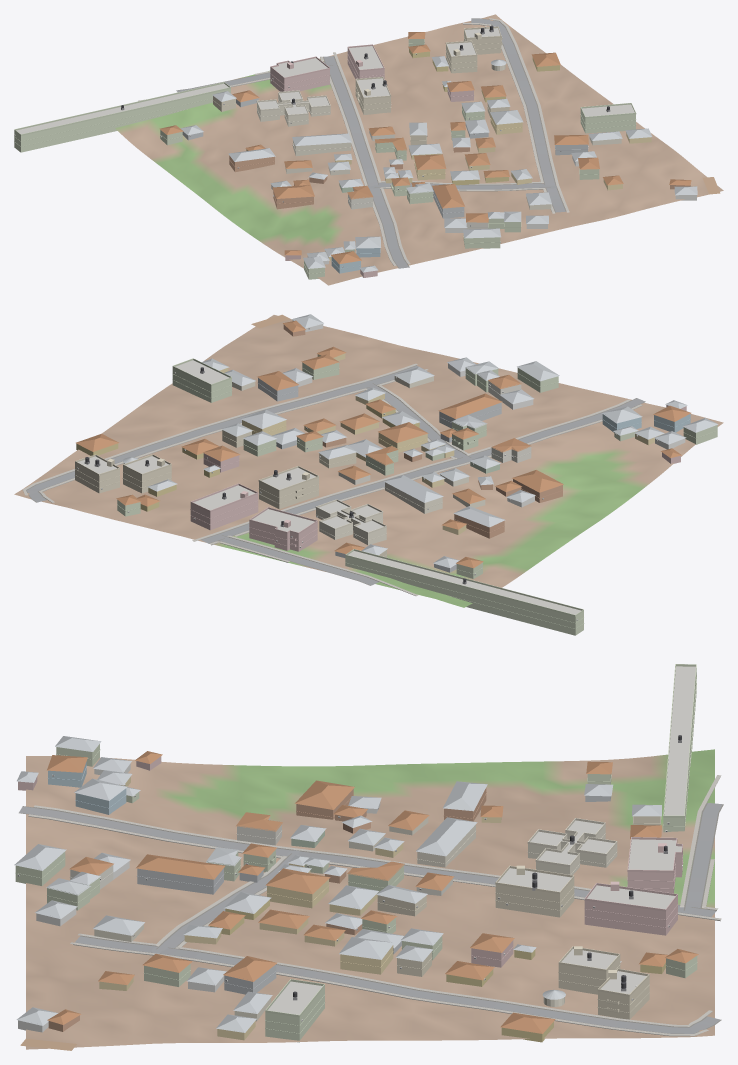
3 views of the same model, one above another, from view 1: azimuth 30°, elevation 25°; view 2: azimuth 150°, elevation 25°; view 3: azimuth 270°, elevation 25° (orthographic). The views are drawn at different scales.
Parts seen in each view (by area): view 1: Terrain-col, Buildings-col, Roads-col, Details, Sidewalks-col; view 2: Terrain-col, Buildings-col, Roads-col, Details, Sidewalks-col; view 3: Terrain-col, Buildings-col, Roads-col, Details, Sidewalks-col.
Part boxes in pixels (bbox=[...]): Terrain-col: bbox=[115, 14, 723, 285]; Buildings-col: bbox=[14, 28, 697, 279]; Roads-col: bbox=[176, 18, 720, 268]; Details: bbox=[14, 25, 636, 273]; Sidewalks-col: bbox=[138, 18, 569, 265]; Terrain-col: bbox=[14, 315, 723, 607]; Buildings-col: bbox=[75, 314, 718, 635]; Roads-col: bbox=[26, 314, 645, 585]; Details: bbox=[75, 328, 717, 629]; Sidewalks-col: bbox=[23, 363, 642, 595]; Terrain-col: bbox=[26, 749, 714, 1049]; Buildings-col: bbox=[14, 666, 698, 1042]; Roads-col: bbox=[19, 802, 723, 1050]; Details: bbox=[15, 664, 697, 1033]; Sidewalks-col: bbox=[28, 775, 721, 1036].
Size of the model in its own units: 319 by 20.86 by 264.
